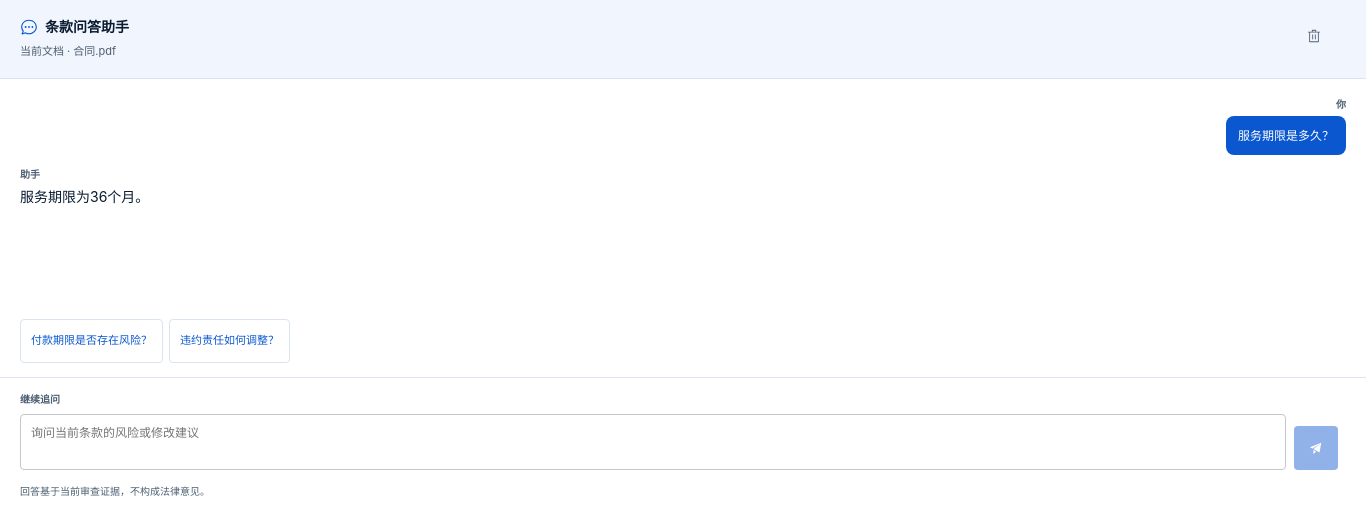
Test: ReviewAssistant › clears persisted messages through the API and reloads them
This screenshot has width=1366, height=513.
Step 1. Click the button named "清空问答记录" → (1314, 36), box [1294,16,1334,56]
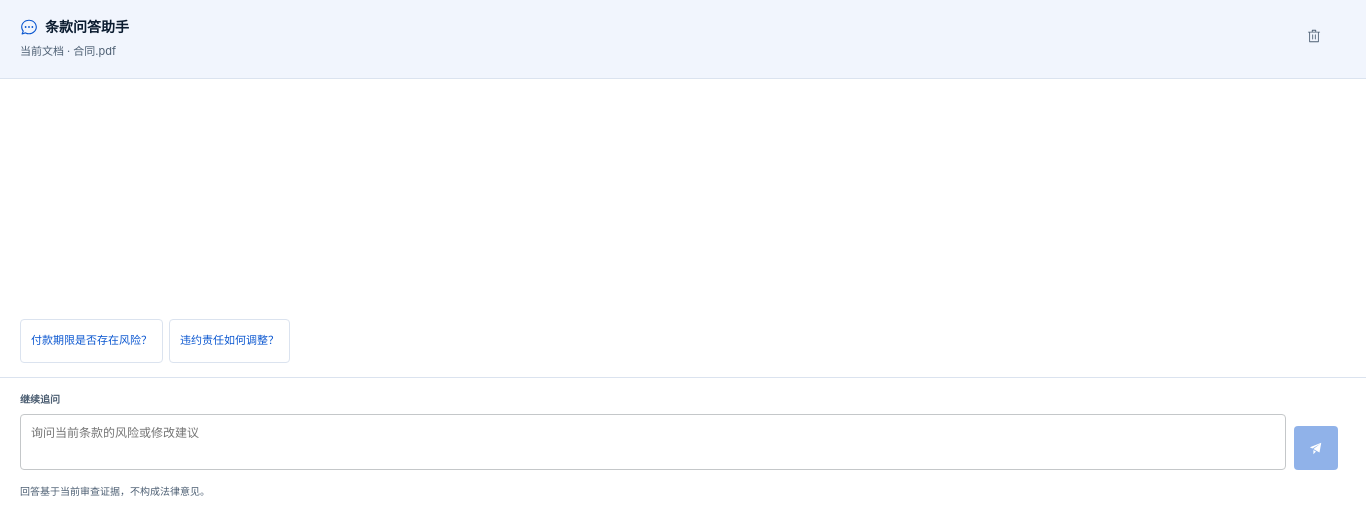
Expected: the text "服务期限为36个月。" is gone
